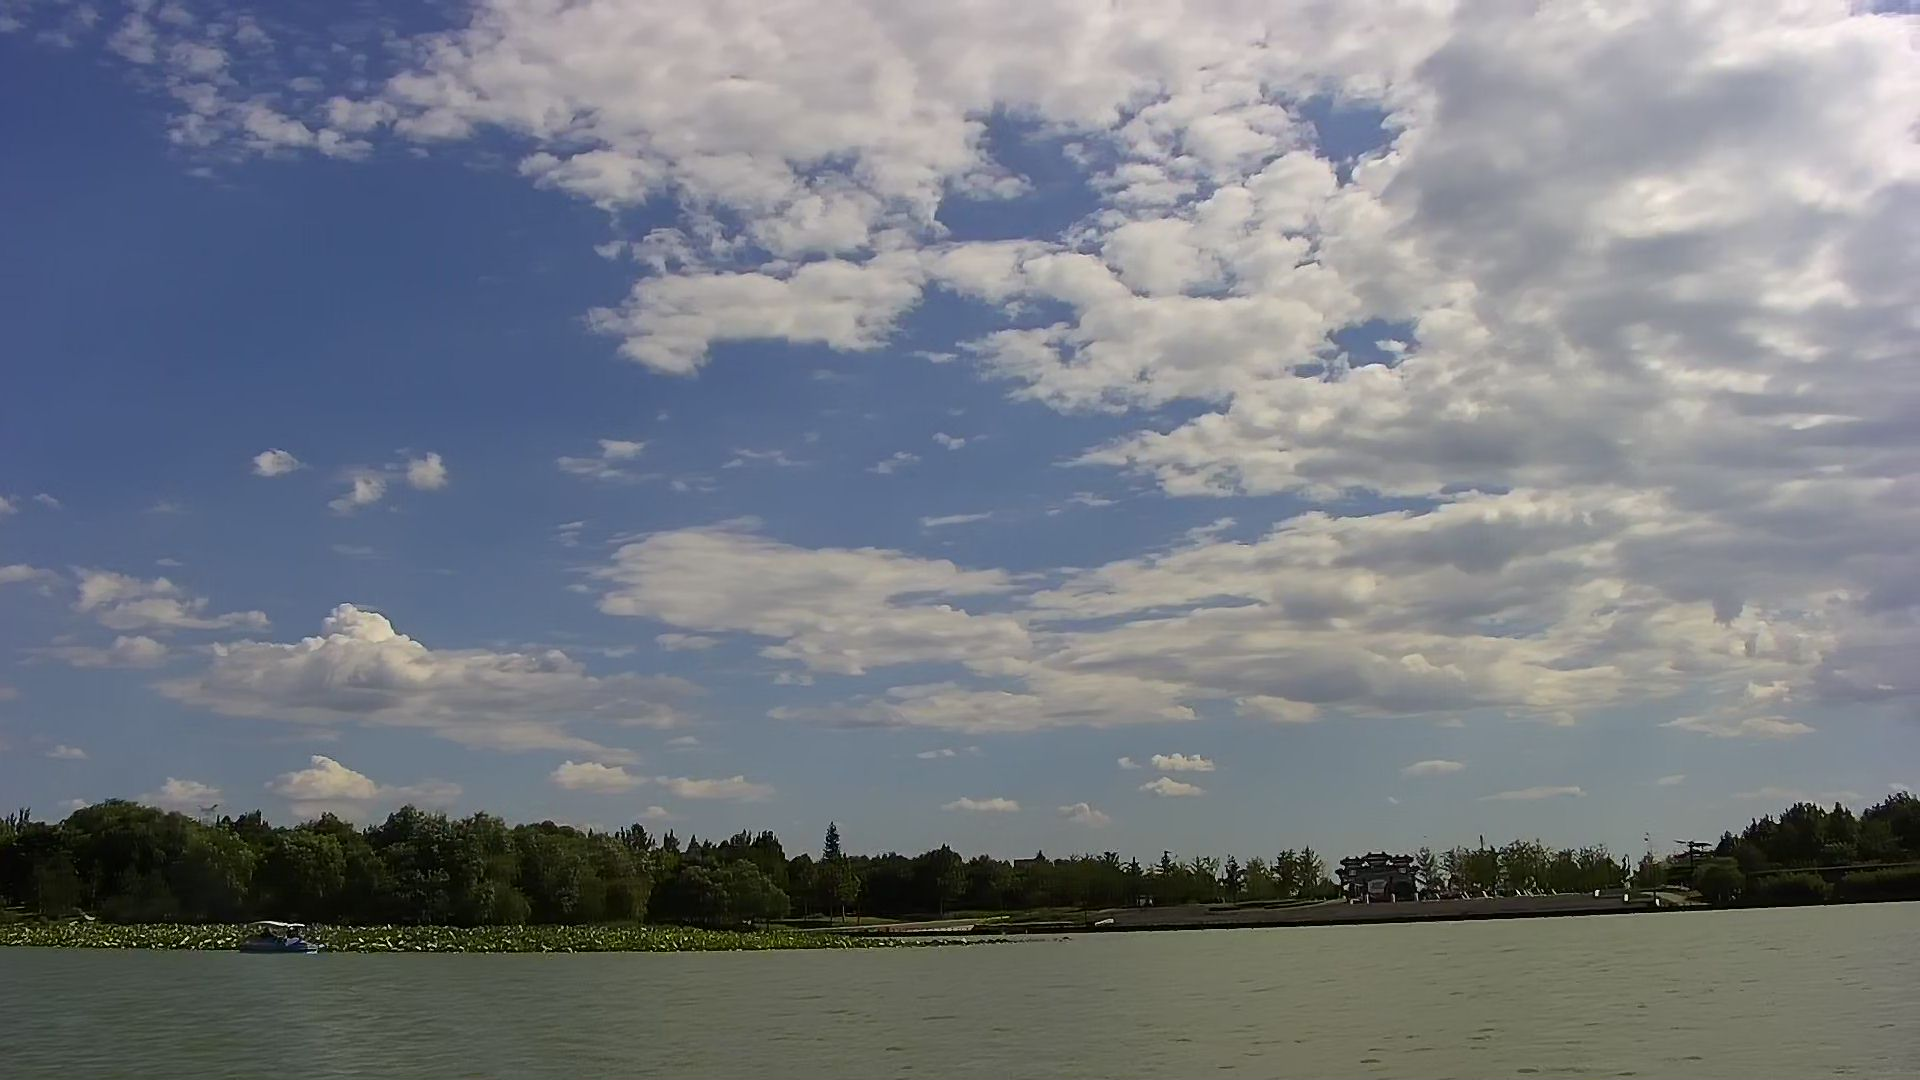boat: (233, 915, 324, 960)
harbor: (1052, 885, 1704, 920)
